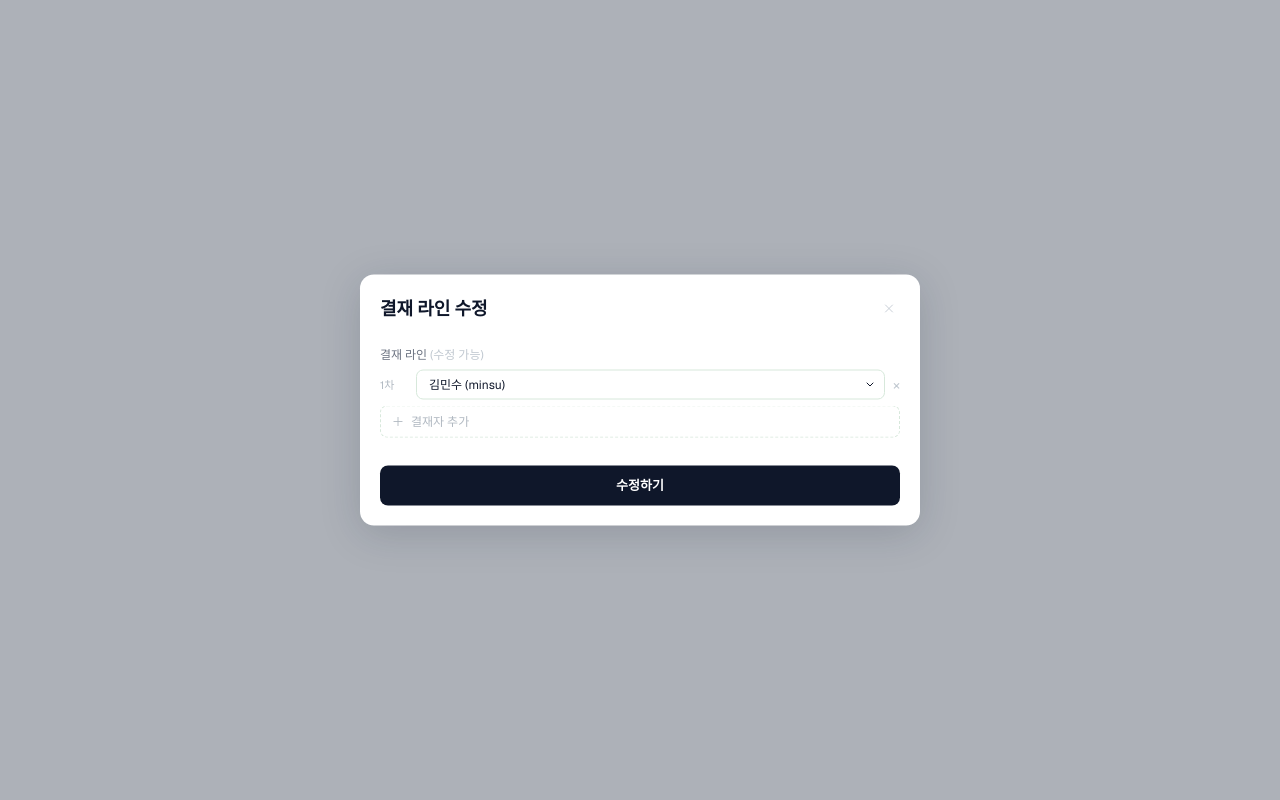
Test: EditApprovalModal › 결재자 추가를 클릭하면 결재선을 추가한다
Check: the dropdown named "1차 결재자" is shown, box [417, 370, 884, 398]
Click the button "결재자 추가".
click(440, 422)  # box [380, 406, 900, 438]
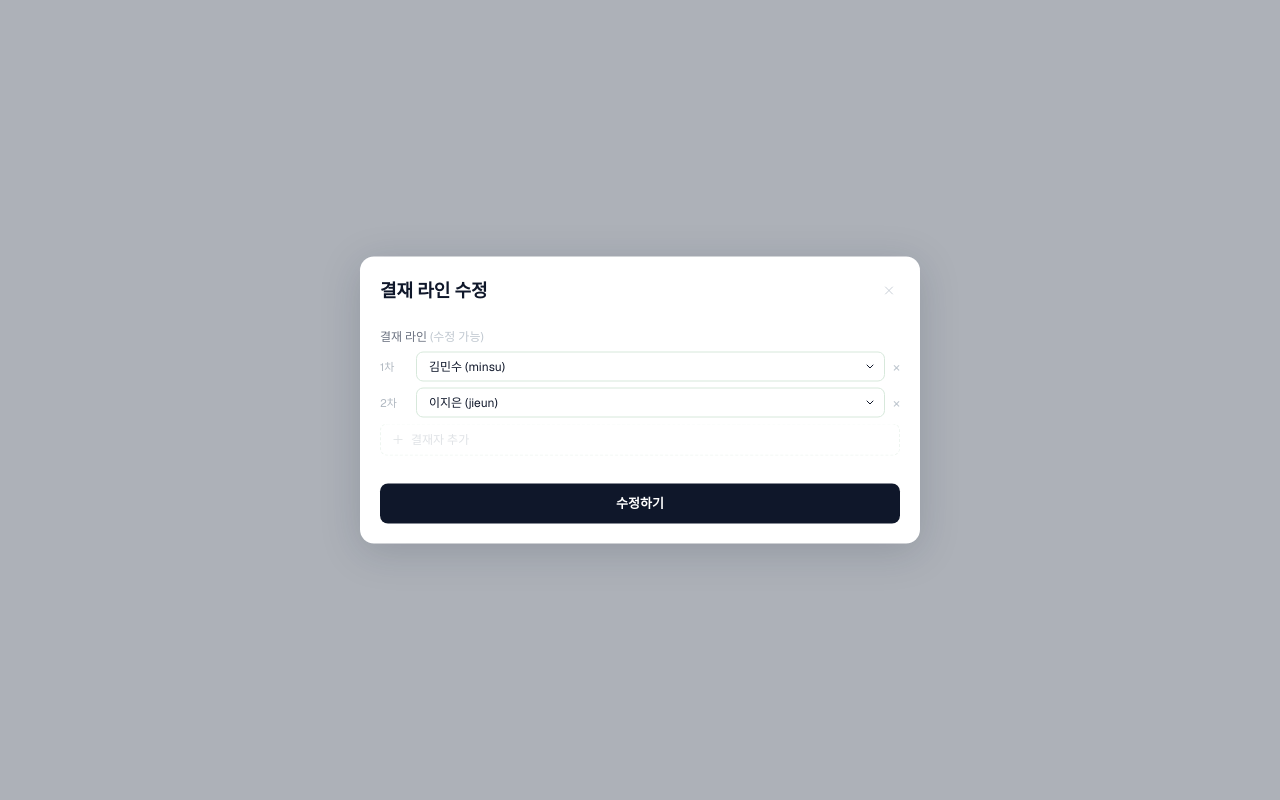
Check: the dropdown named "2차 결재자" shows "이지은 (jieun)", box [417, 388, 884, 416]
